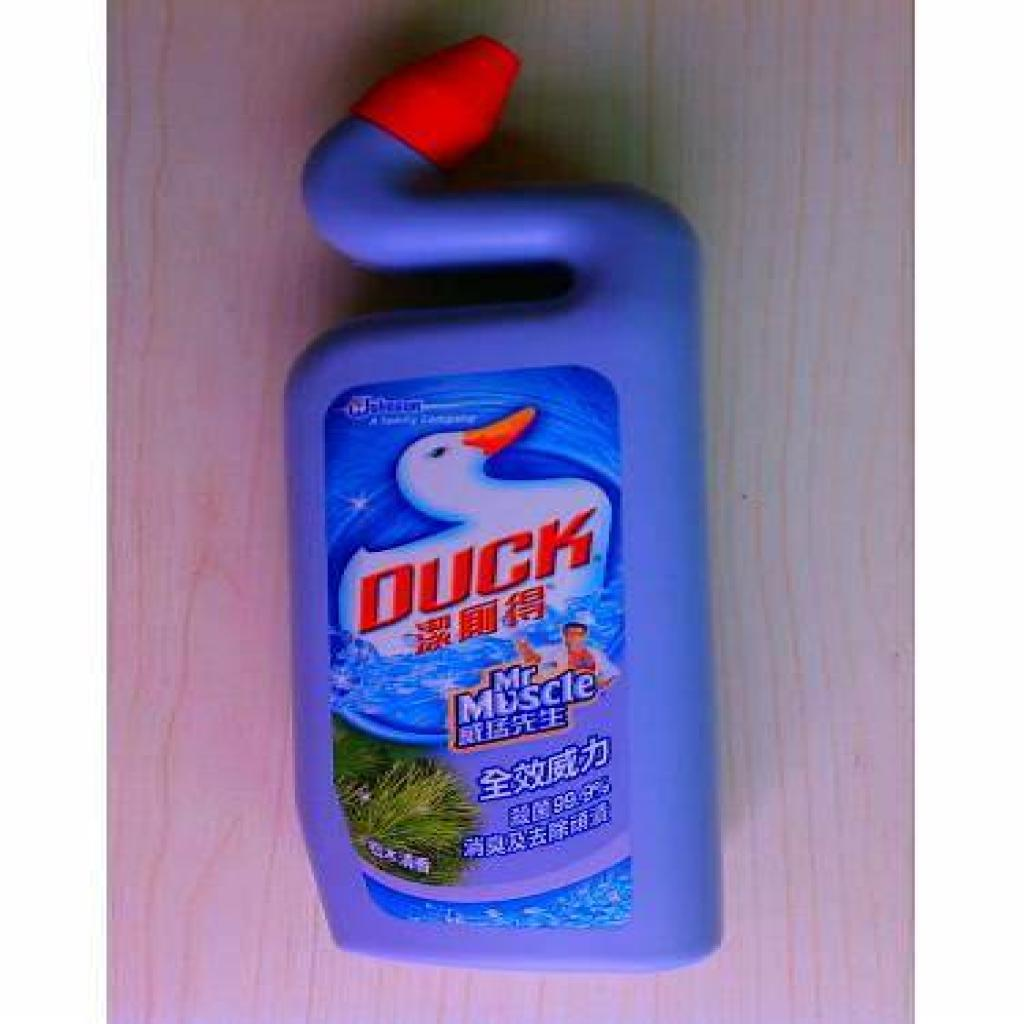plastic: (247, 40, 745, 992)
